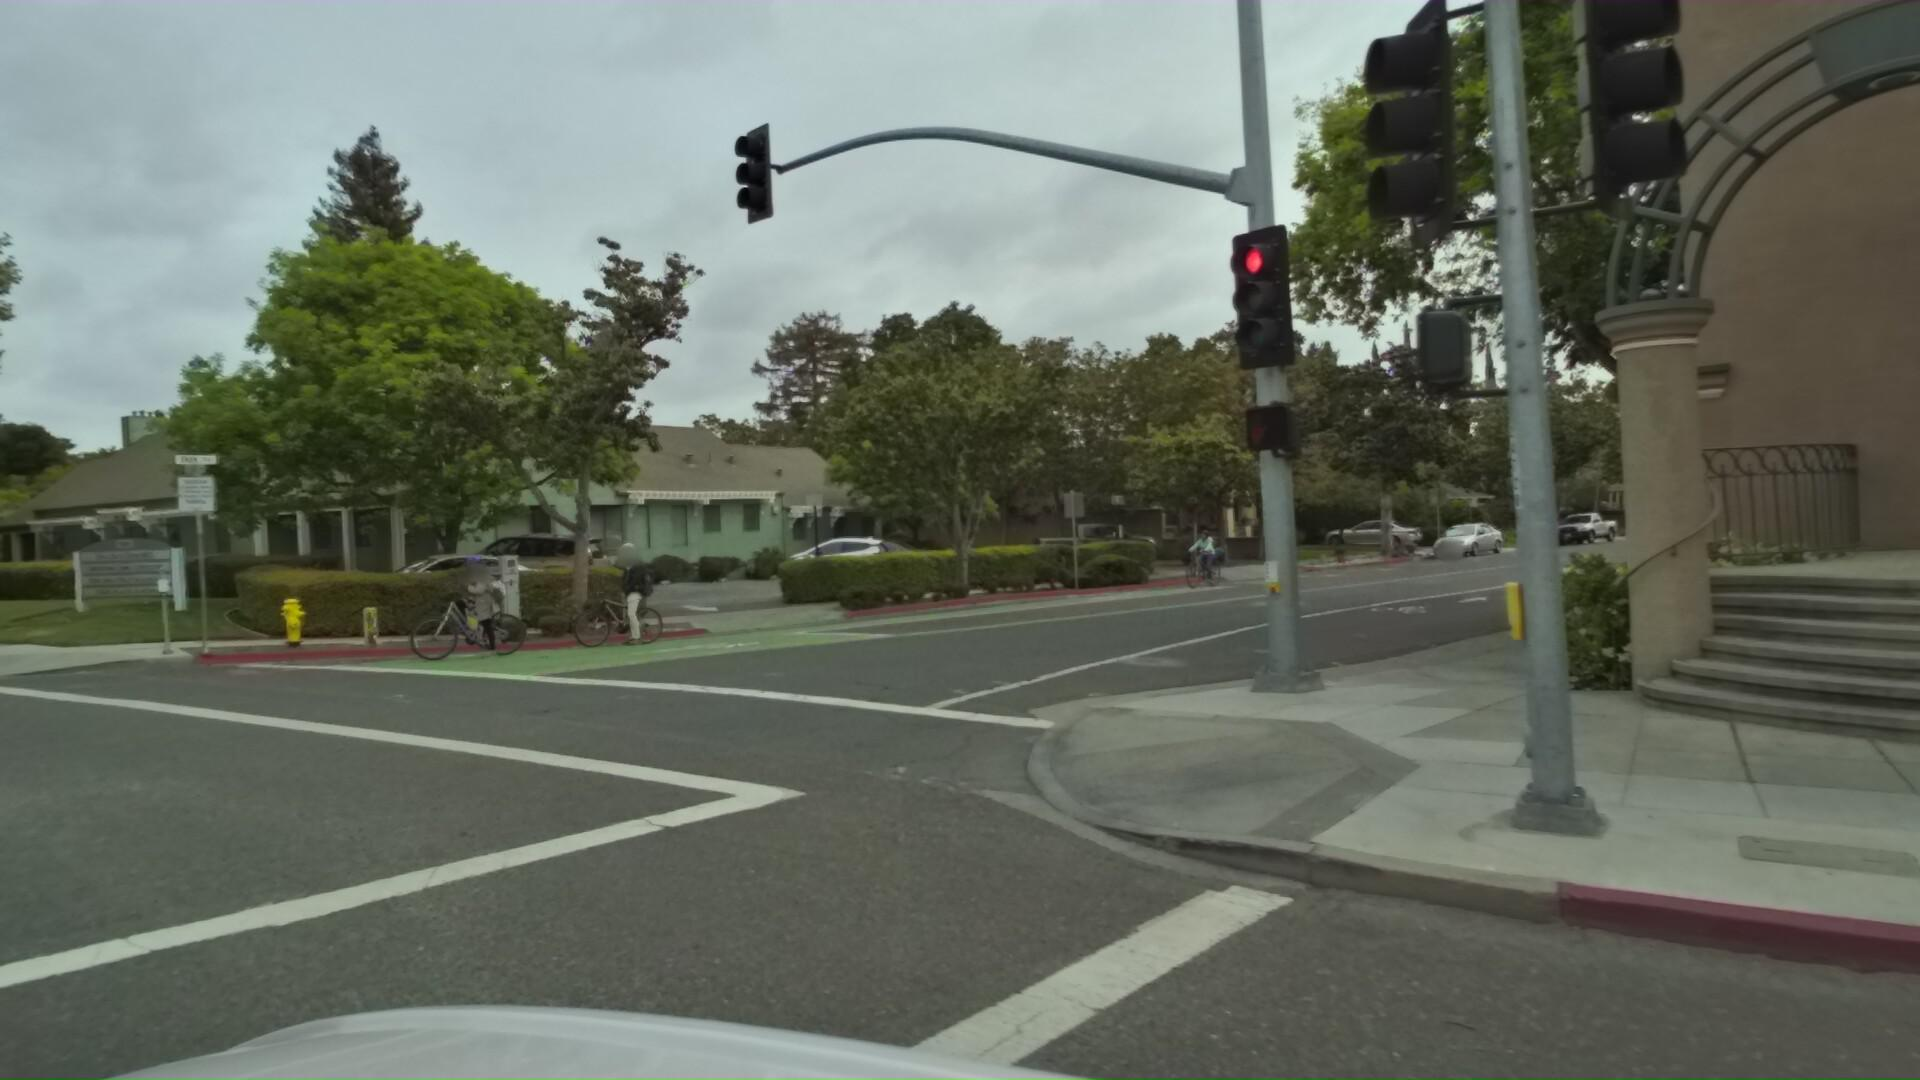bicycle: (415, 538, 562, 662), (574, 527, 692, 645), (1185, 520, 1250, 583)
car: (324, 535, 566, 620), (425, 520, 632, 587), (1035, 512, 1168, 560), (786, 525, 901, 579), (1797, 495, 1892, 553), (1436, 512, 1515, 554), (1553, 501, 1626, 539), (1714, 493, 1758, 522), (1646, 504, 1687, 529)
